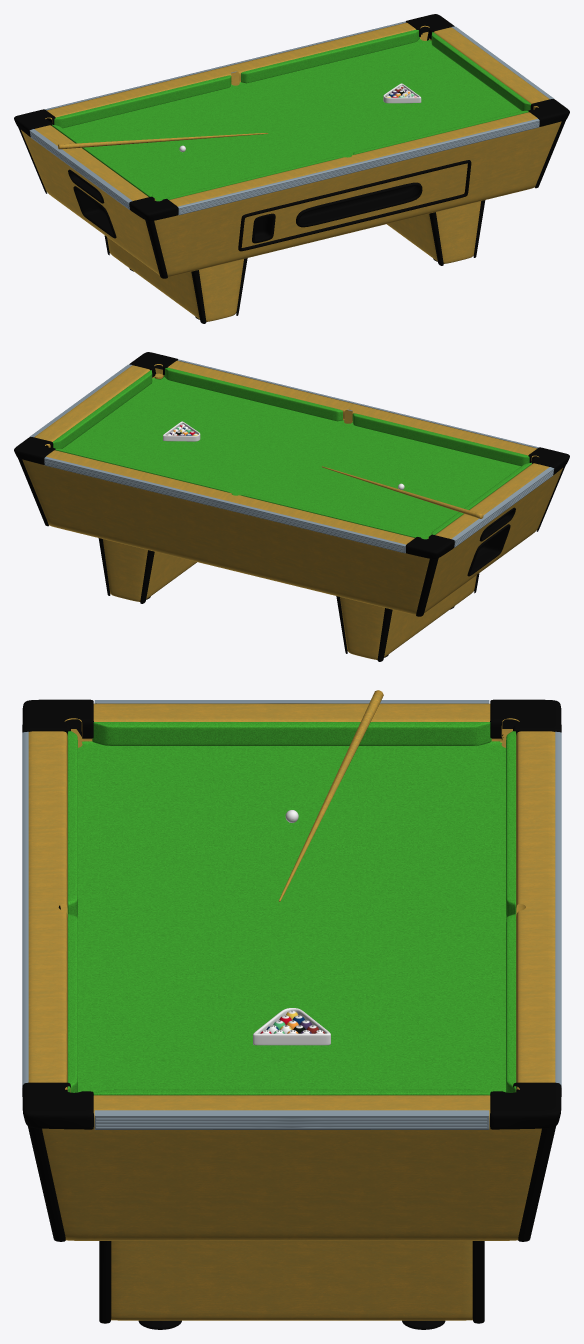
Rendered from source.obj.
The picture shows the model from 3 angles, top to bottom: view 1: azimuth 30°, elevation 25°; view 2: azimuth 150°, elevation 25°; view 3: azimuth 270°, elevation 25°; orthographic projection. The views are drawn at different scales.
Parts seen in each view (by area): view 1: Plane.003_Plane, Cylinder.001_Cylinder, Sphere.001_Sphere; view 2: Plane.003_Plane, Cylinder.001_Cylinder, Sphere.001_Sphere; view 3: Plane.003_Plane, Sphere.001_Sphere, Cylinder.001_Cylinder.
Part boxes in pixels (bbox=[...]): Plane.003_Plane: bbox=[14, 14, 569, 323]; Cylinder.001_Cylinder: bbox=[58, 133, 268, 149]; Sphere.001_Sphere: bbox=[179, 83, 421, 152]; Plane.003_Plane: bbox=[14, 352, 569, 661]; Cylinder.001_Cylinder: bbox=[322, 466, 483, 518]; Sphere.001_Sphere: bbox=[163, 421, 404, 489]; Plane.003_Plane: bbox=[22, 699, 561, 1329]; Sphere.001_Sphere: bbox=[253, 810, 330, 1045]; Cylinder.001_Cylinder: bbox=[279, 690, 383, 901].
Bounding box in the file's own units: 8.95 × 3.11 × 4.91.
5 materials, 3 textured.
